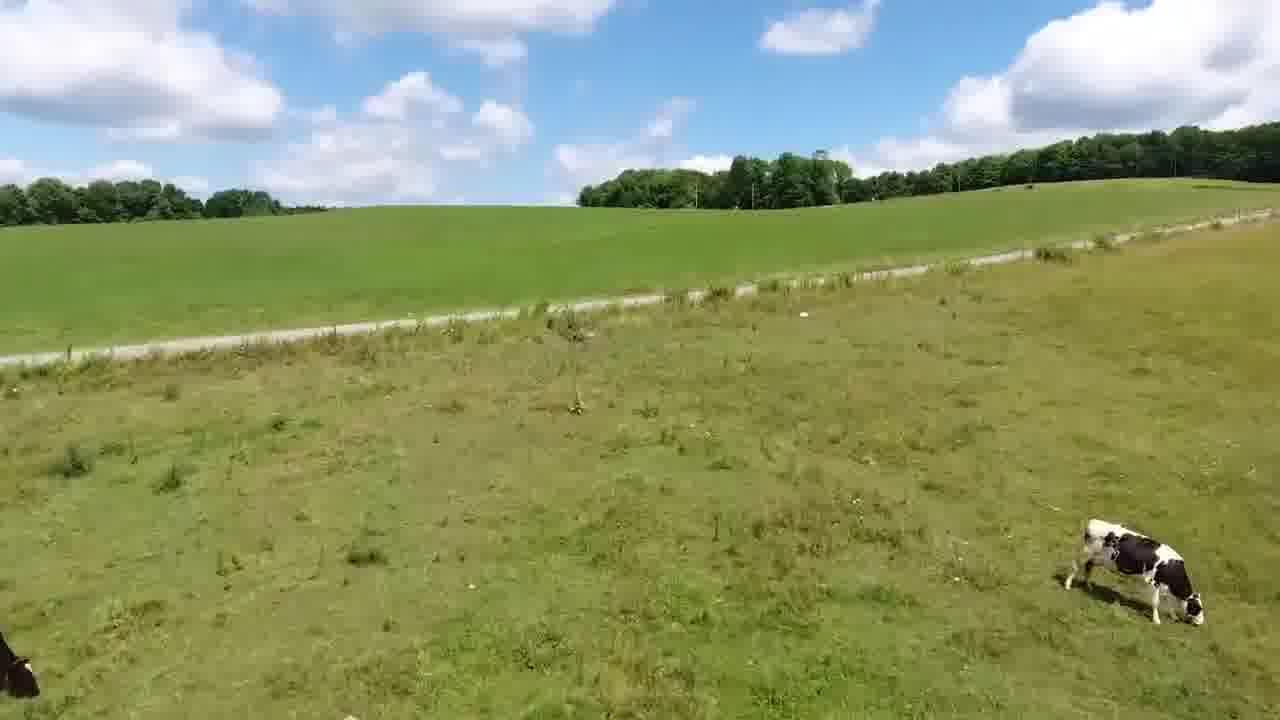cow: (1060, 516, 1215, 634), (0, 629, 50, 704)
